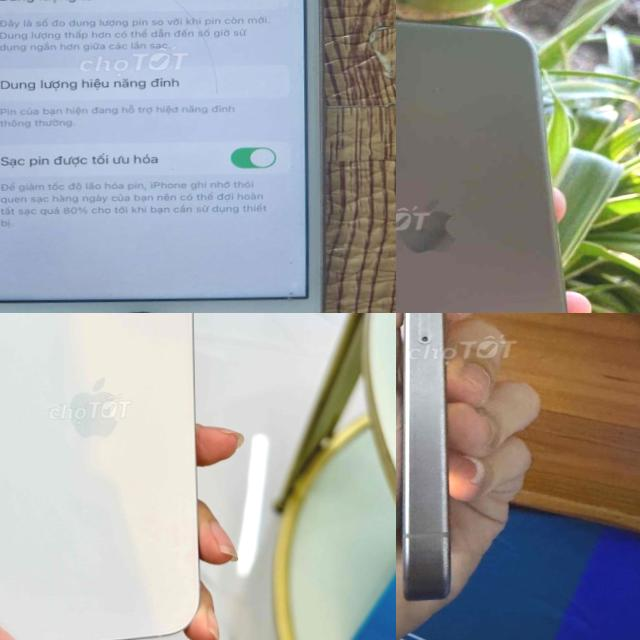gen_11: (396, 21, 566, 313)
gen_15: (0, 313, 206, 640), (396, 313, 475, 607)
gen_7_8: (0, 0, 337, 313)
